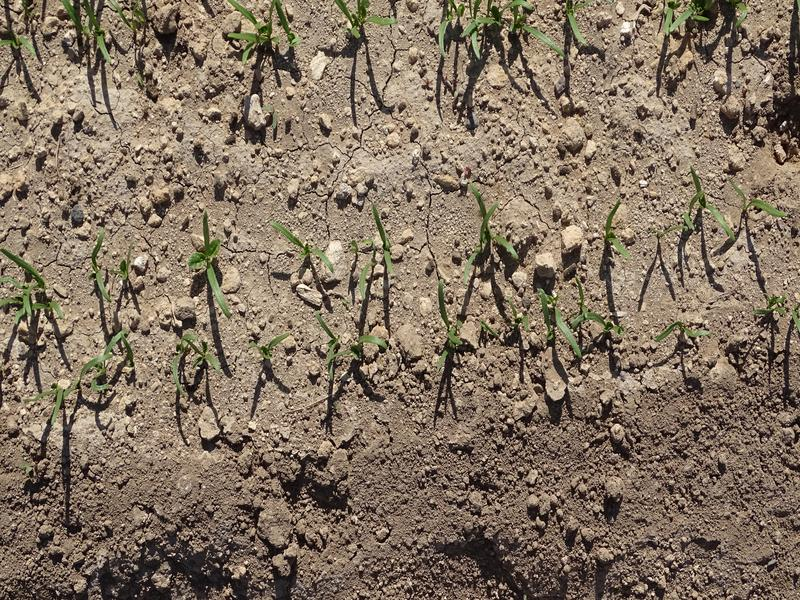Espinaca: (426, 1, 594, 48), (38, 330, 135, 407), (686, 173, 781, 241), (1, 246, 57, 336), (186, 218, 236, 314), (65, 1, 147, 58), (538, 280, 602, 352), (461, 199, 511, 280), (312, 325, 377, 383), (228, 3, 300, 55), (362, 214, 409, 291), (653, 1, 750, 37), (271, 219, 333, 273), (428, 300, 474, 372), (172, 339, 225, 396), (94, 236, 133, 302), (337, 3, 400, 41), (600, 200, 628, 261), (657, 319, 705, 344)
